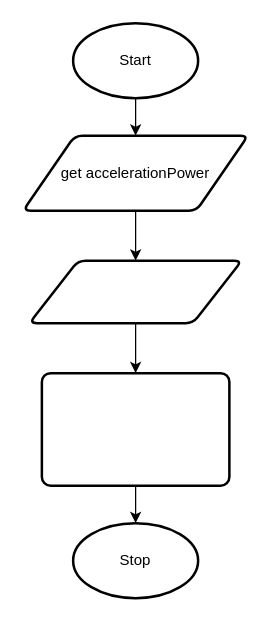
The diagram is 270 pixels wide and 620 high, and some of its shapes have lost their labels. The shapes that lost their labels are listed below. From the top down, each one's centre as x and y in pixels, then its label:
At (x=135, y=291): "get accelerationTime".
At (x=135, y=428): "this.speed = accelerationPower * accelerationTime + this.speed".
